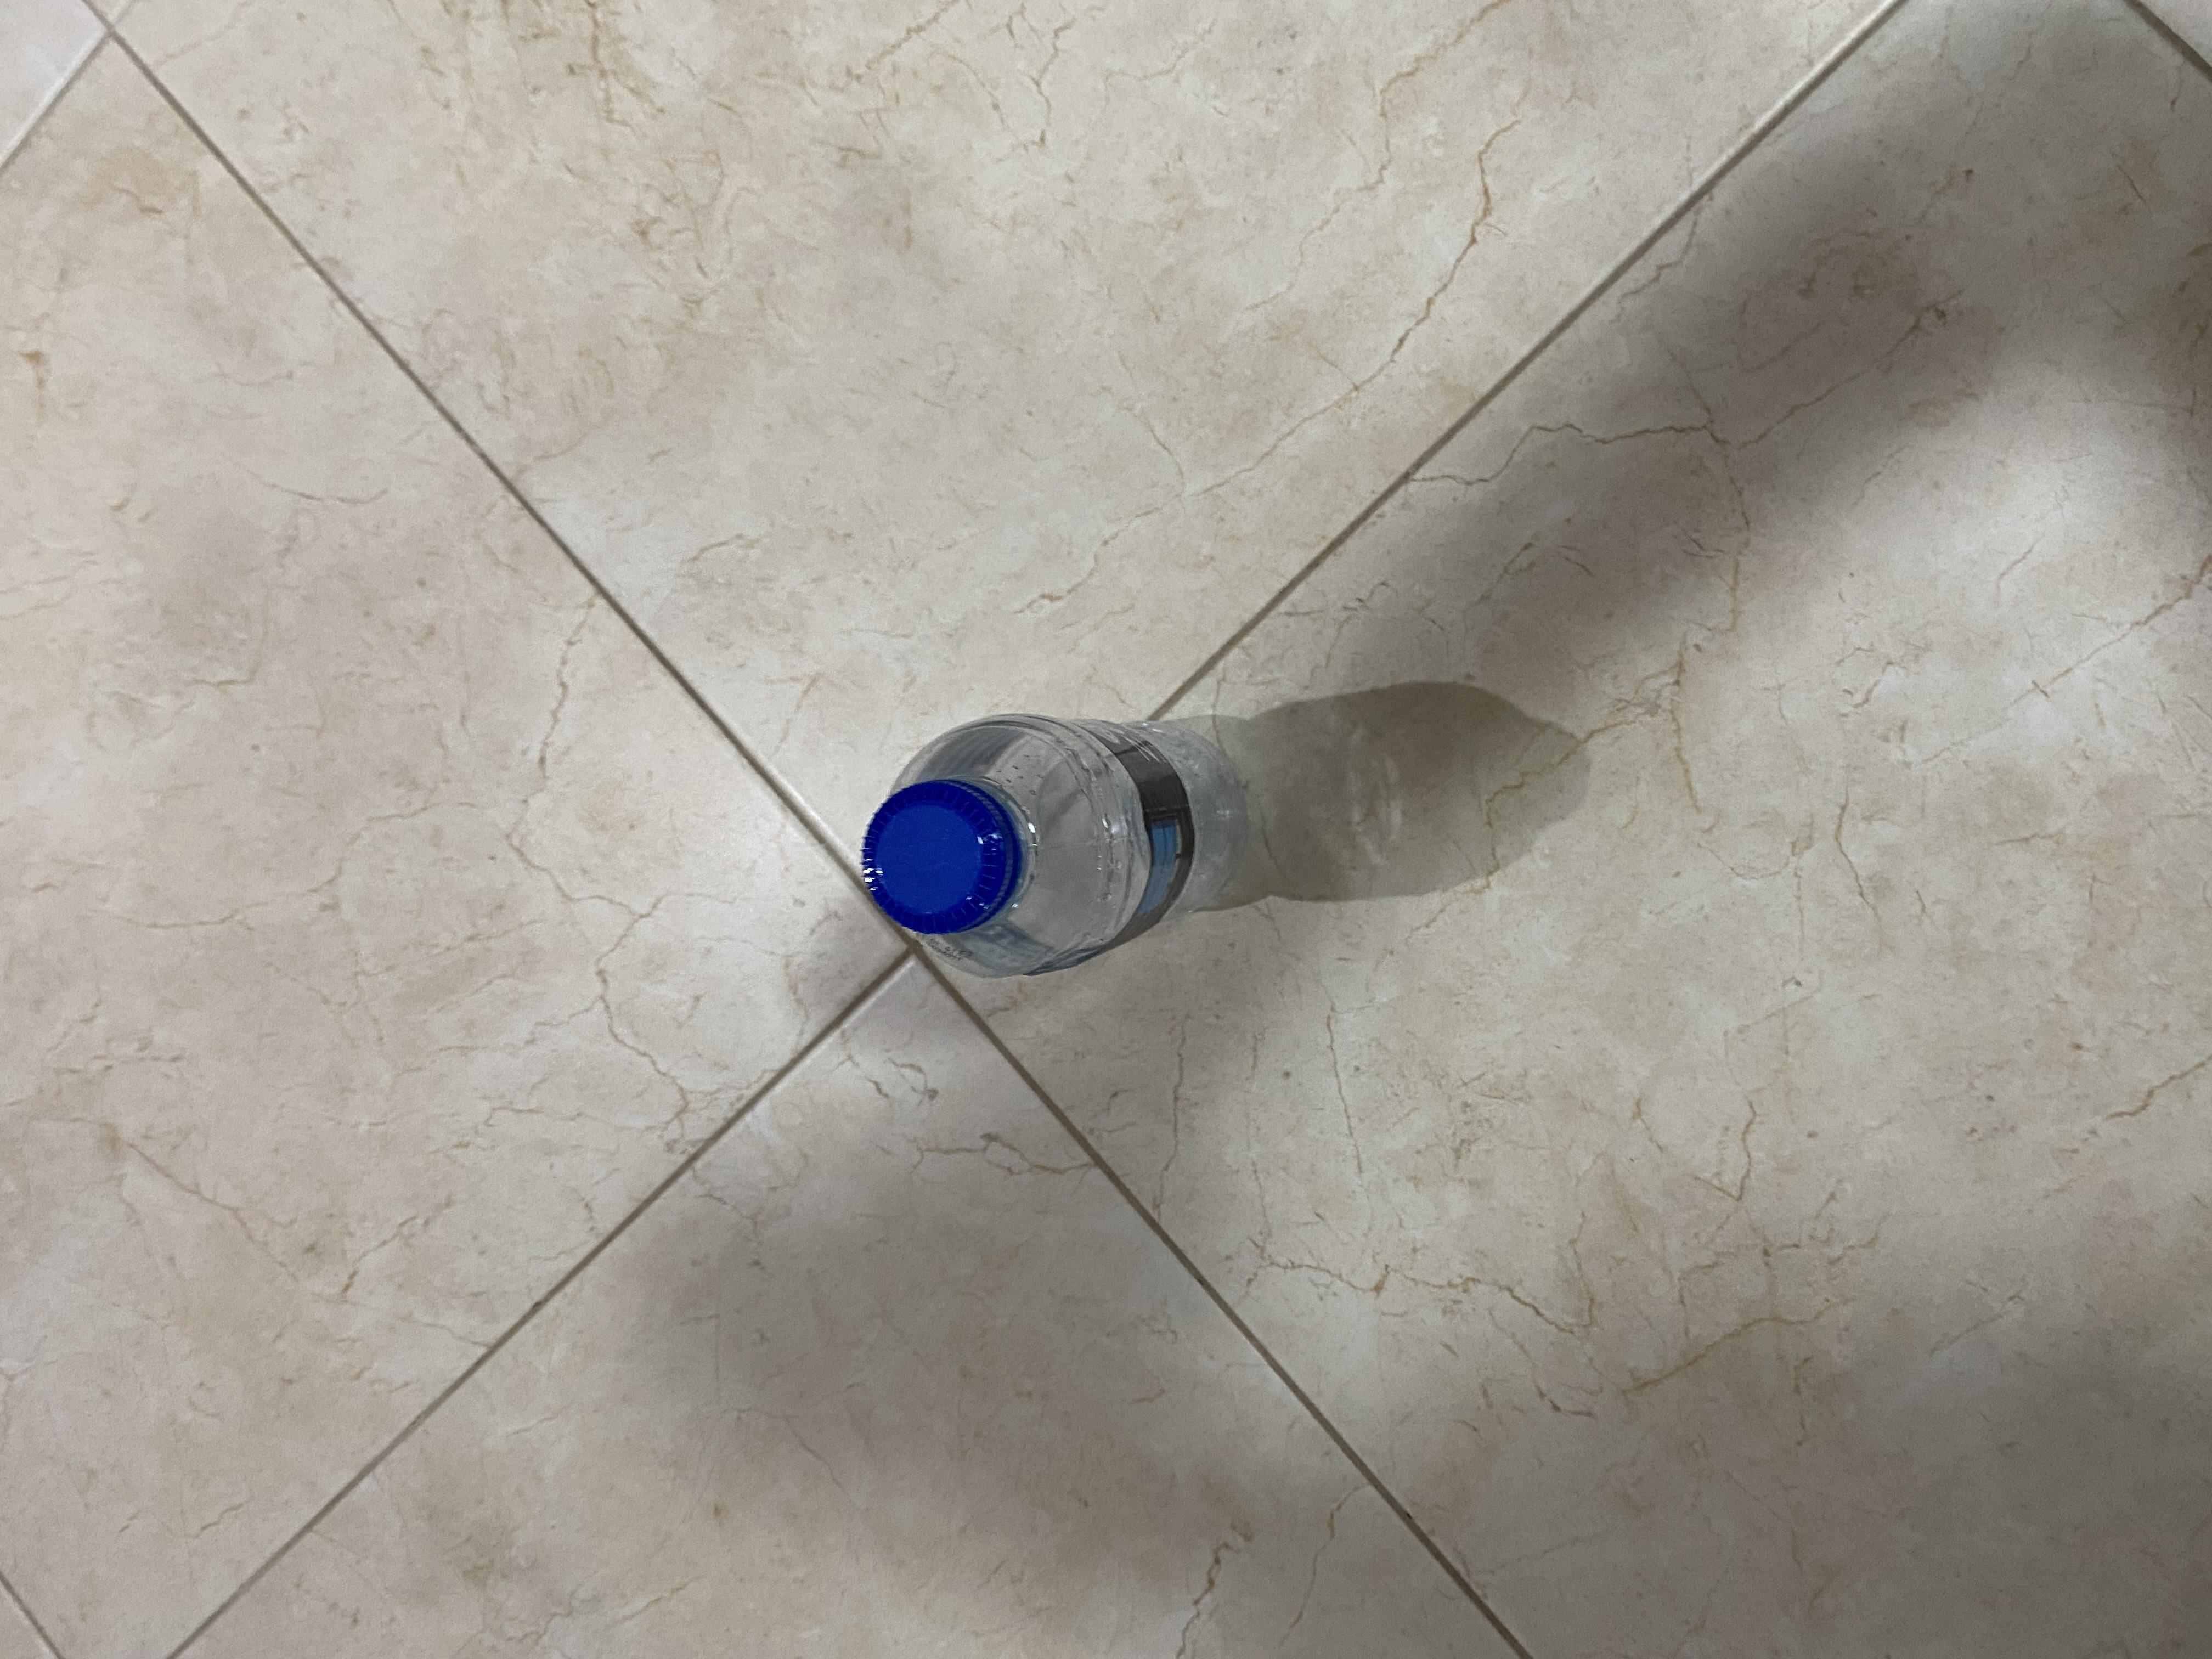bottle: (909, 634, 1357, 1009)
